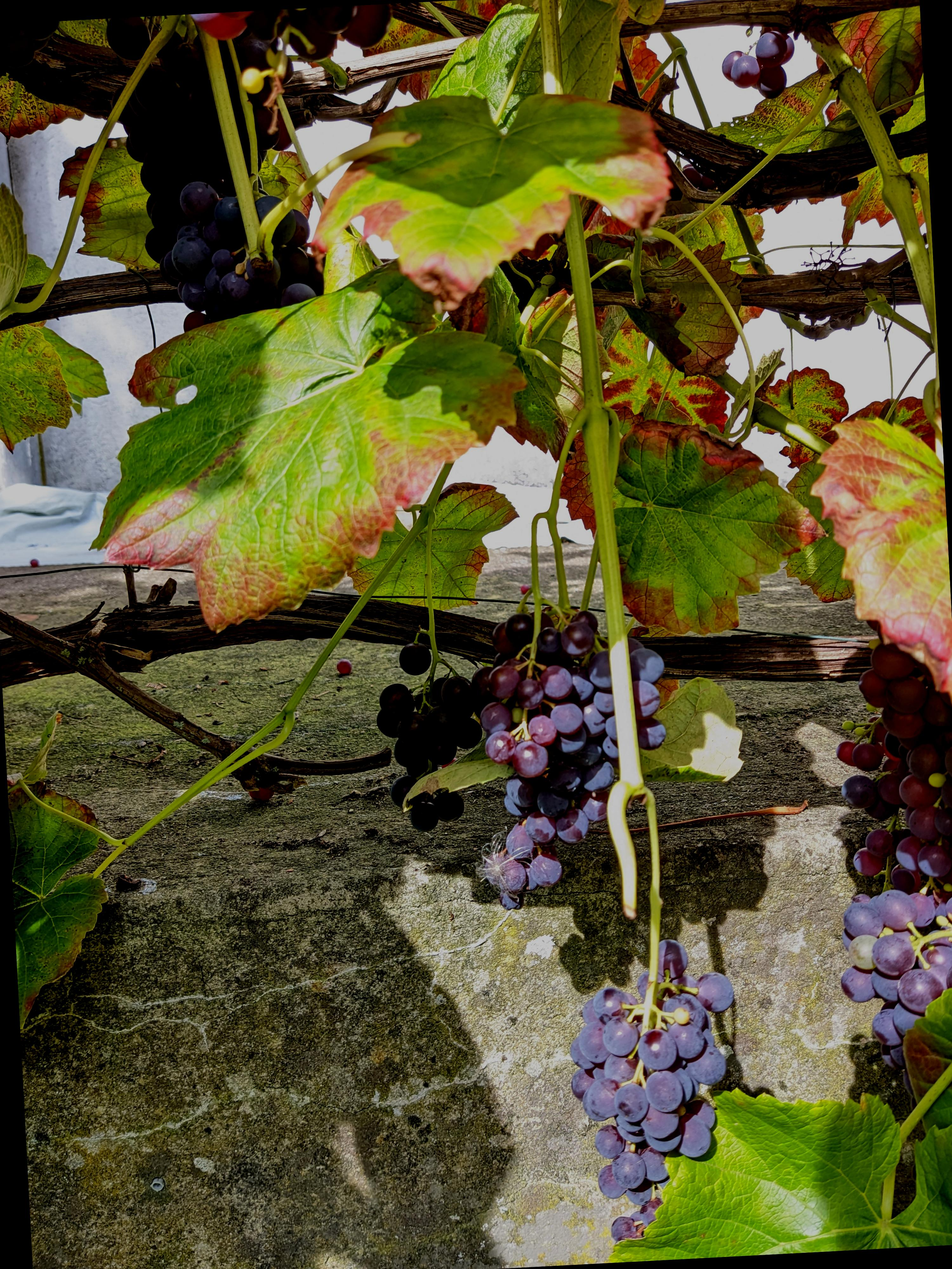Grape Ripe: (791, 634, 946, 1139), (430, 616, 646, 935), (535, 959, 718, 1269), (77, 33, 270, 288), (130, 199, 296, 359), (338, 661, 449, 858), (163, 28, 374, 91), (690, 58, 769, 127), (0, 45, 39, 99)
